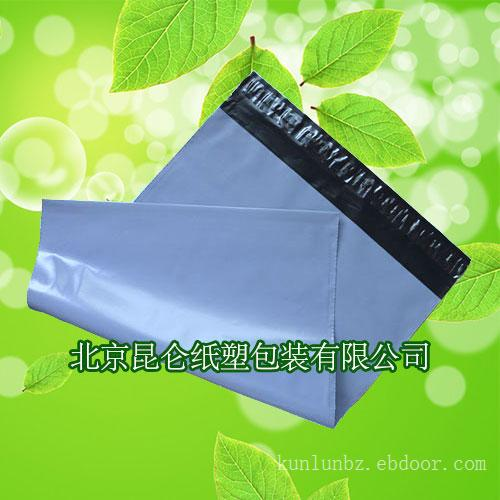Parcel: (0, 25, 491, 500)
